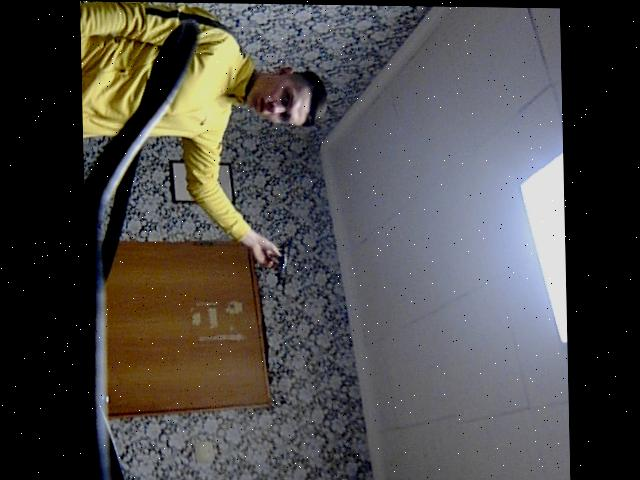drone: (271, 231, 302, 292)
